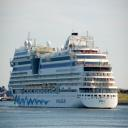cruises: (8, 32, 120, 111)
